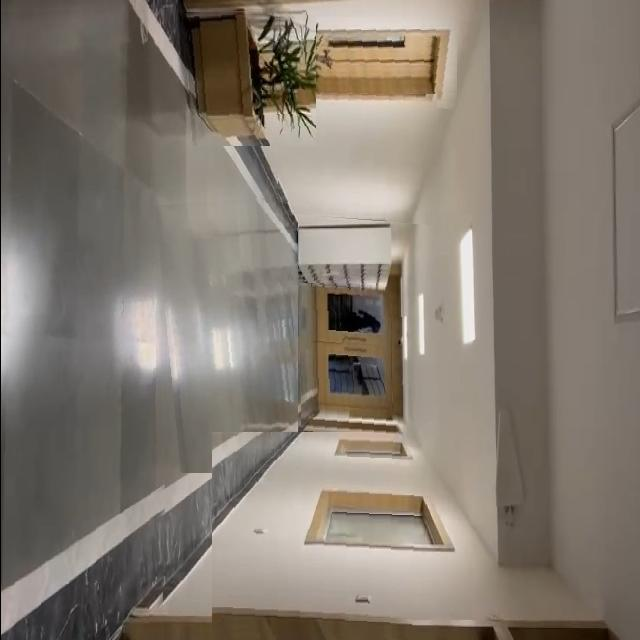door: (298, 283, 402, 439), (300, 17, 456, 110)
floor: (0, 6, 171, 640), (154, 195, 297, 473)
furniture: (181, 8, 315, 146)
wall: (211, 432, 426, 640), (277, 94, 436, 225)
